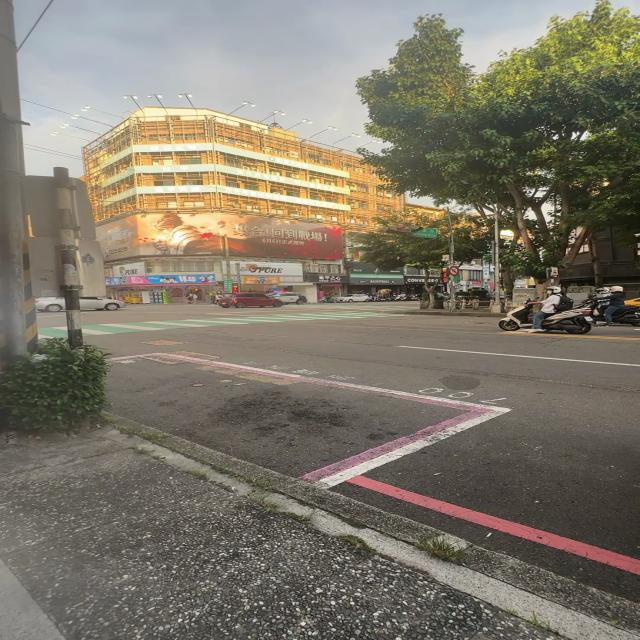car: (218, 292, 282, 308), (79, 296, 126, 310), (267, 291, 309, 304), (35, 298, 64, 311), (335, 294, 371, 302)
crosswalk: (83, 311, 431, 337), (282, 305, 420, 311), (36, 326, 68, 340)
motocycle: (543, 308, 591, 334), (499, 304, 532, 331), (578, 298, 604, 324), (611, 305, 640, 328)
